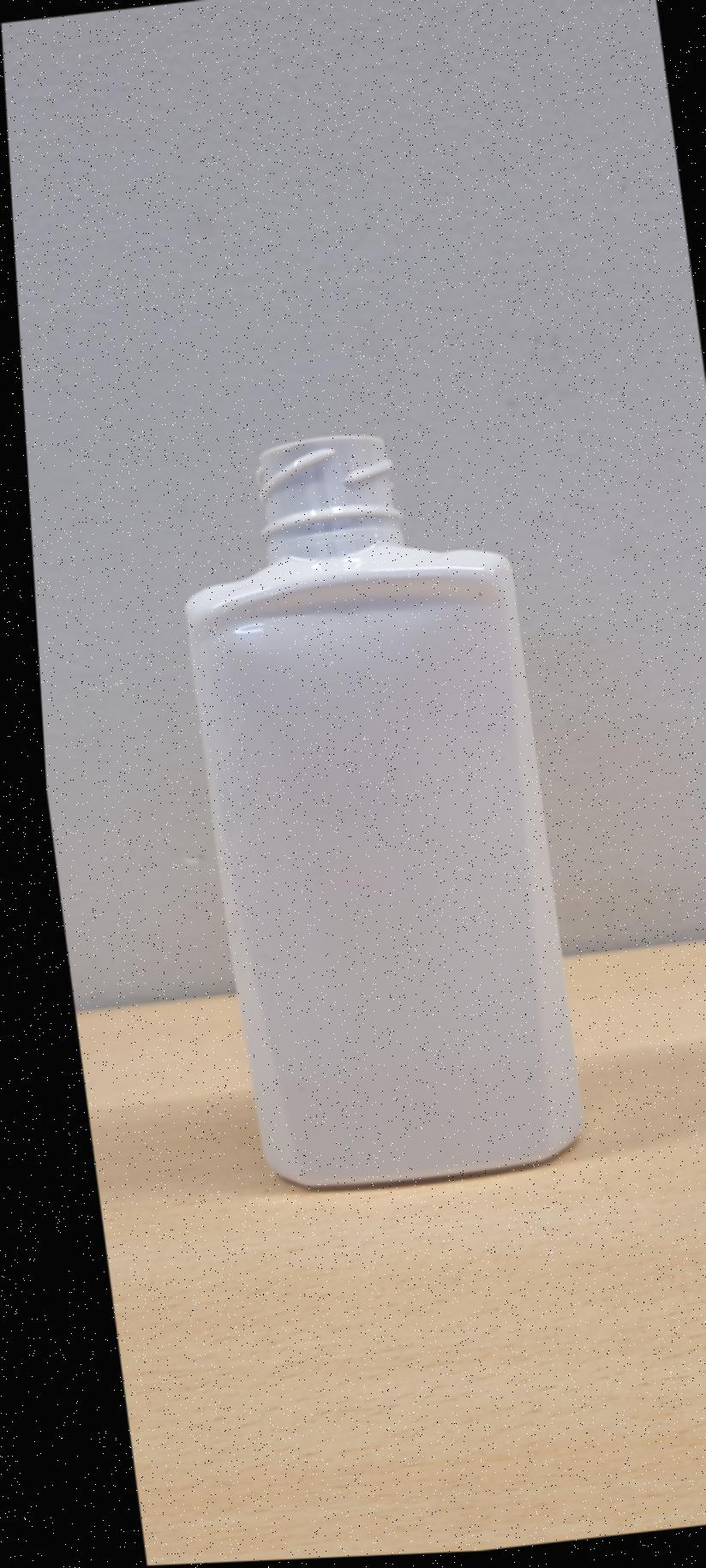bottle: (185, 434, 581, 1186)
